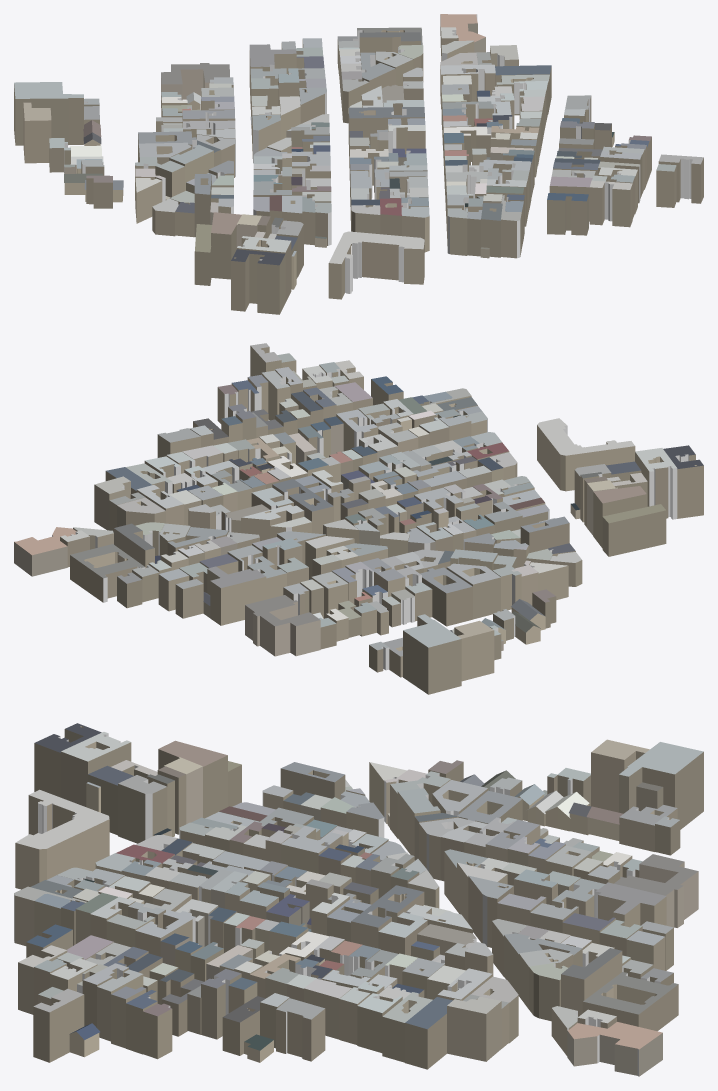
3 renders of one model, top to bottom at view 1: azimuth 30°, elevation 25°; view 2: azimuth 150°, elevation 25°; view 3: azimuth 270°, elevation 25°, orthographic. The views are drawn at different scales.
Parts seen in each view (by area): view 1: tuile; view 2: tuile; view 3: tuile.
Boxes of the visible parts, <box> form: tuile: <box>14,14,703,314</box>; tuile: <box>14,343,703,694</box>; tuile: <box>14,723,703,1076</box>.
Size of the model in its own units: 271 by 31.91 by 271.
